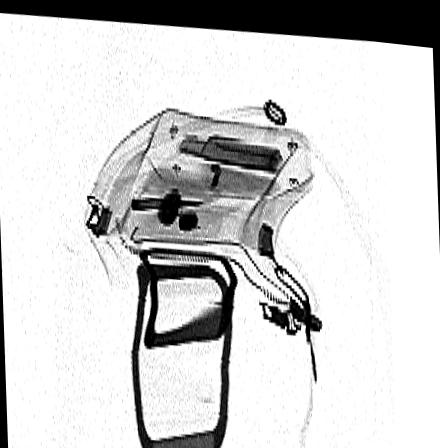Bullet: (175, 198, 200, 230)
